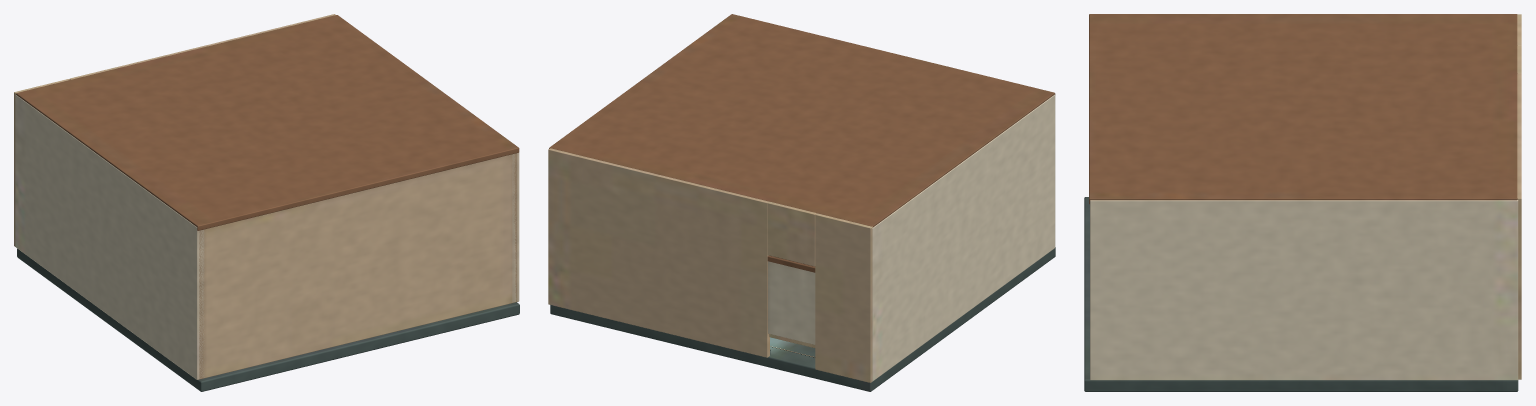
File: beacon-return.glb
The picture shows the model from 3 angles, left to right: view 1: azimuth 30°, elevation 25°; view 2: azimuth 150°, elevation 25°; view 3: azimuth 270°, elevation 25°; orthographic projection. The views are drawn at different scales.
Visible parts, largest first — view 1: VIS · Beacon chamber; view 2: VIS · Beacon chamber; view 3: VIS · Beacon chamber.
Part boxes in pixels (x1,y1,x2,y2): VIS · Beacon chamber: [14, 14, 519, 391]; VIS · Beacon chamber: [548, 14, 1055, 391]; VIS · Beacon chamber: [1084, 14, 1521, 391].
Size of the model in its own units: 11.82 by 5.79 by 11.79.
Materials: 10 (9 with a texture image).
